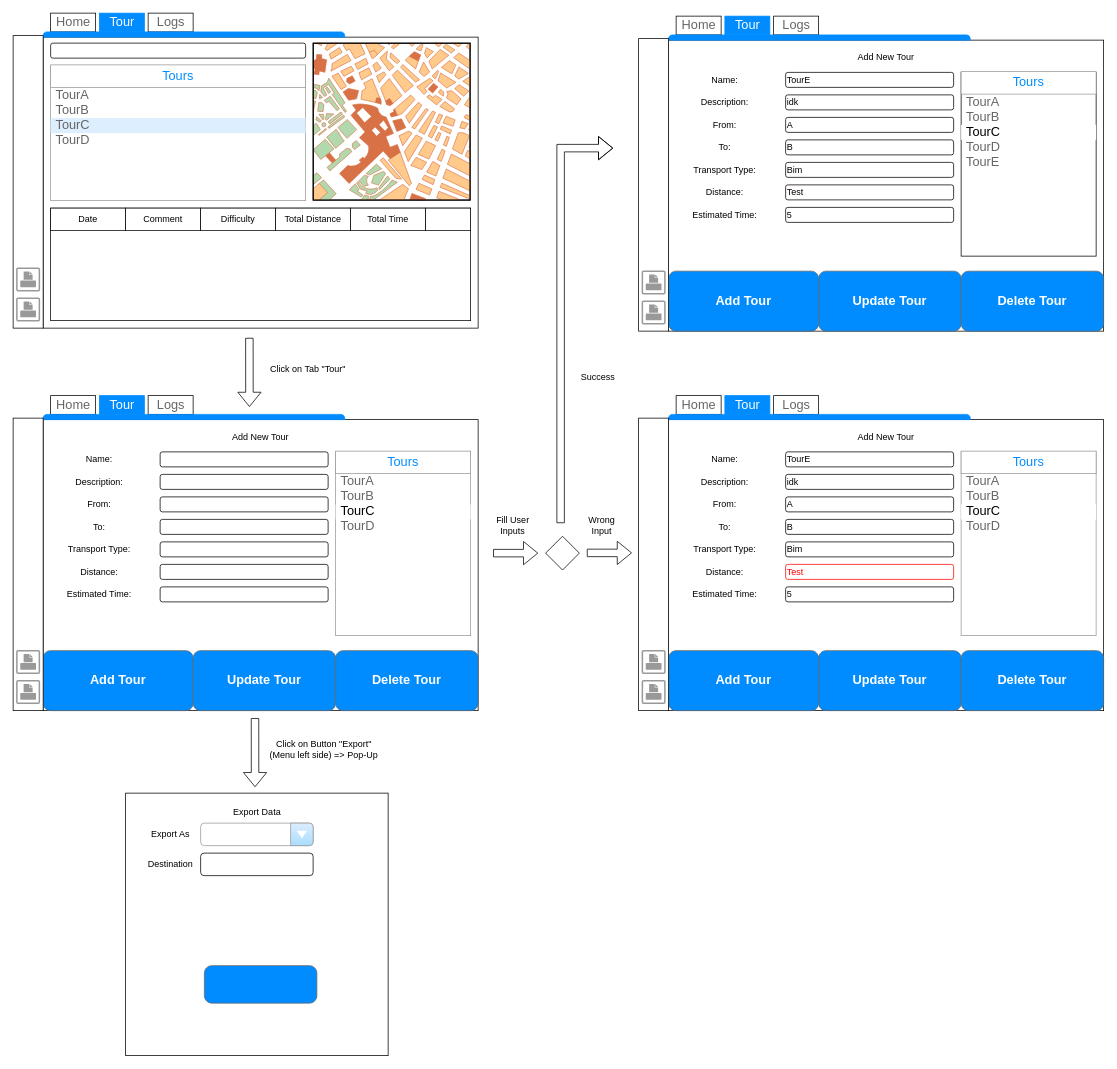
This 1117x1069 diagram has some shape labels left out. The shapes that lost their labels are listed below. From the top down, each one's centre as x and y in pixels, then its label:
point 178,50: Search ...
point 448,219: Rating
point 256,834: Option 1
point 260,984: Export
